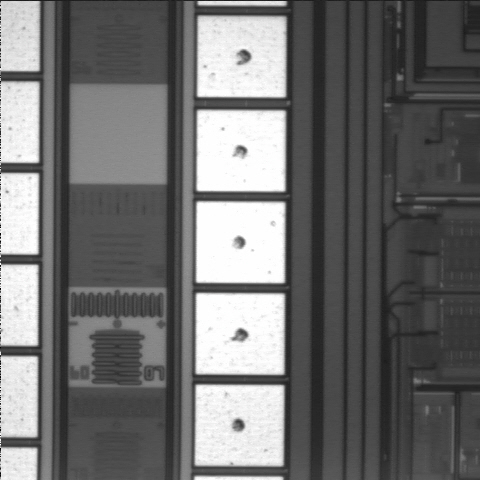pad: (196, 110, 286, 192), (196, 201, 285, 283), (196, 293, 285, 375), (197, 16, 286, 97), (195, 385, 284, 466)
